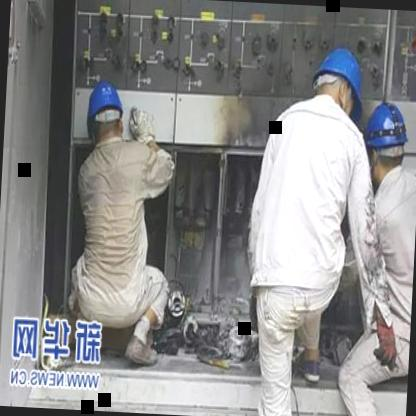helmet: (306, 43, 366, 123), (359, 98, 406, 183), (83, 82, 127, 150)
